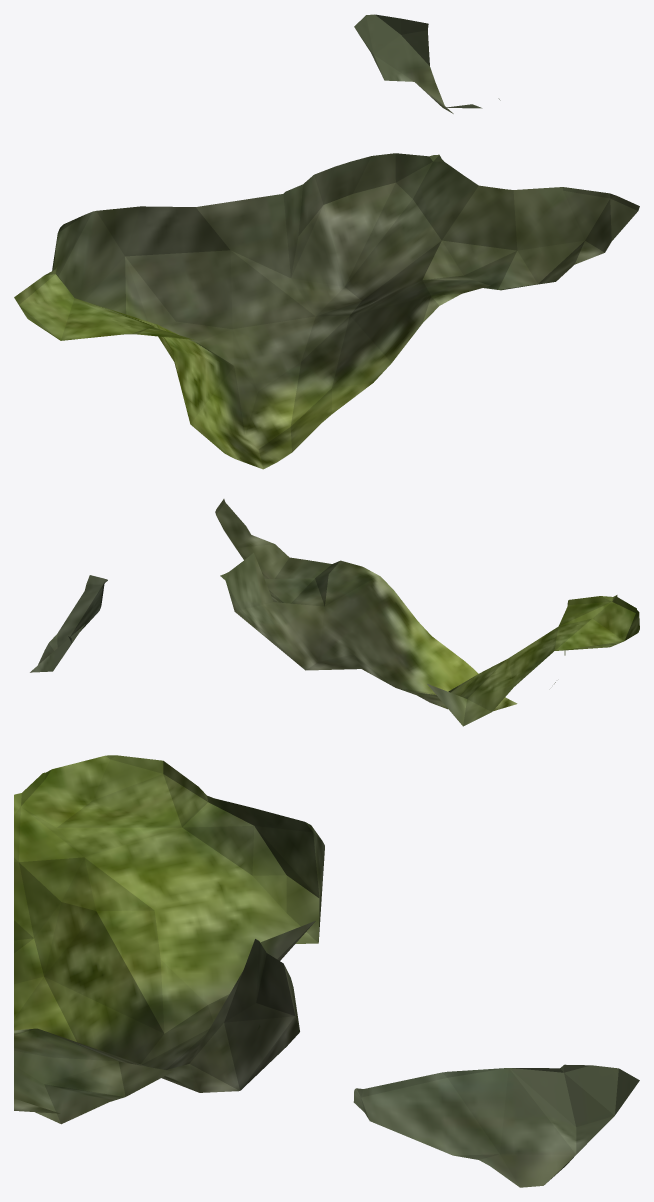
The picture shows the model from 3 angles, top to bottom: view 1: azimuth 30°, elevation 25°; view 2: azimuth 150°, elevation 25°; view 3: azimuth 270°, elevation 25°; orthographic projection. The views are drawn at different scales.
Bounding box in the file's own units: 1.98 × 0.5385 × 1.5.
Materials: 1 (1 with a texture image).
